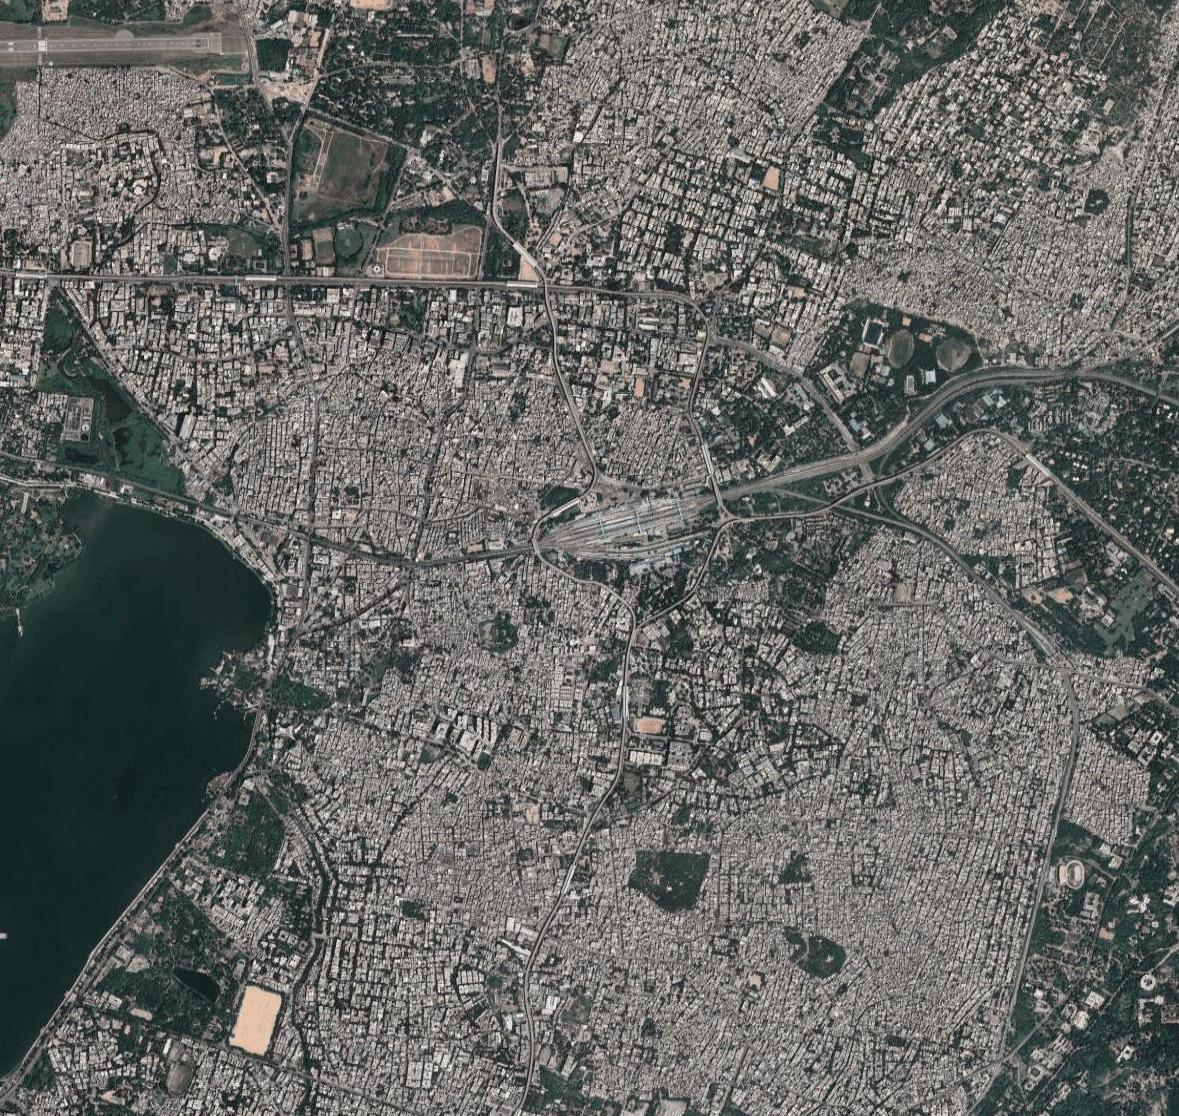bridge: (706, 482, 727, 512), (530, 536, 541, 554)
train_station: (549, 495, 692, 554)
